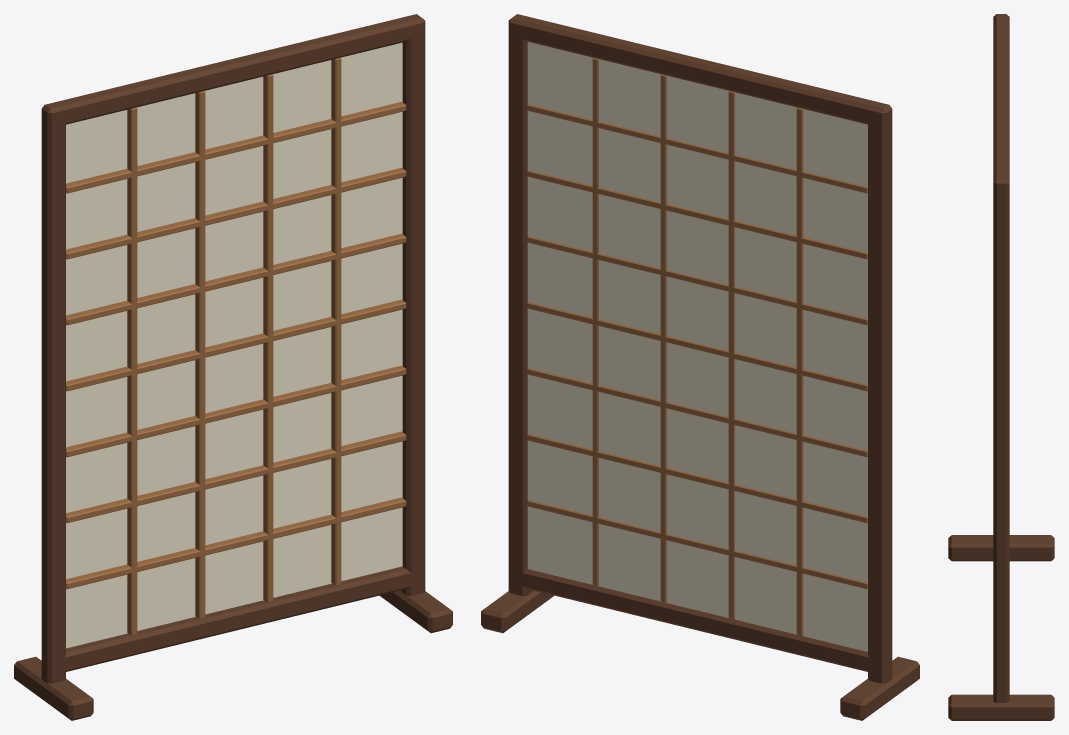
The model's file is lattice_screen.glb.
The picture shows the model from 3 angles, left to right: view 1: azimuth 30°, elevation 25°; view 2: azimuth 150°, elevation 25°; view 3: azimuth 270°, elevation 25°; orthographic projection. The views are drawn at different scales.
Parts seen in each view (by area): view 1: lattice_screen; view 2: lattice_screen; view 3: lattice_screen.
Part boxes in pixels (bbox=[...]): lattice_screen: bbox=[14, 14, 452, 720]; lattice_screen: bbox=[481, 14, 919, 720]; lattice_screen: bbox=[948, 14, 1054, 720].
Size of the model in its own units: 1.22 by 1.8 by 0.32.
